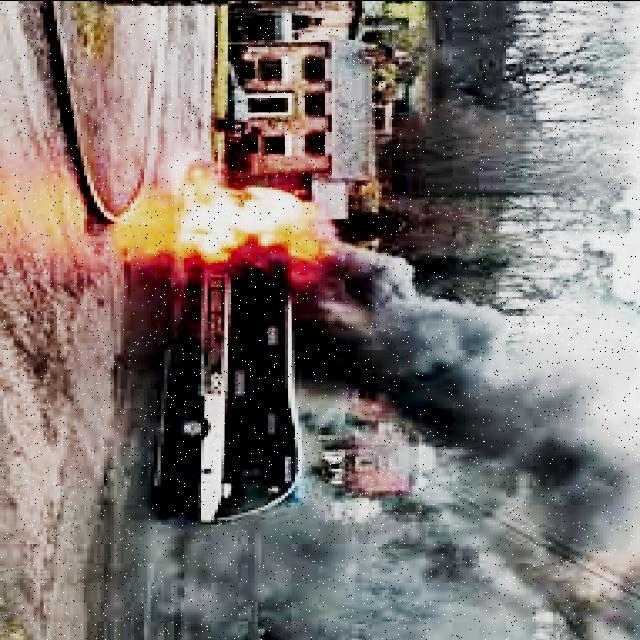api: (169, 154, 337, 292)
